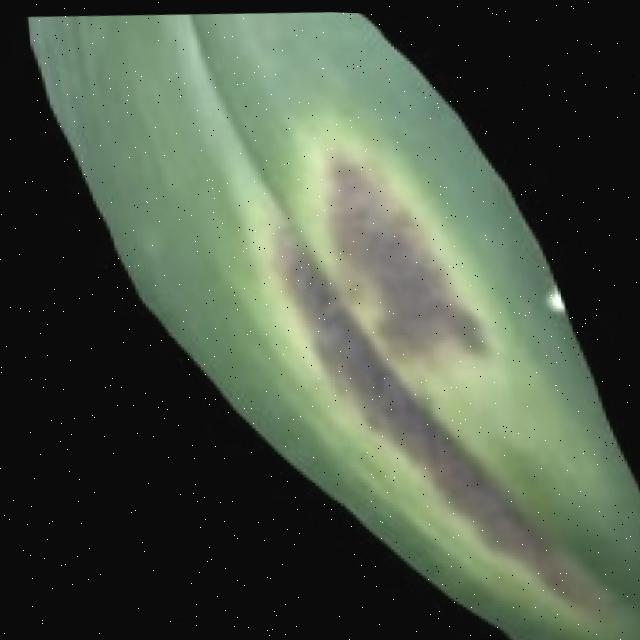mite: (494, 628, 618, 640), (494, 633, 553, 640)
spots: (19, 9, 640, 640)
sunburn: (252, 135, 625, 630)
